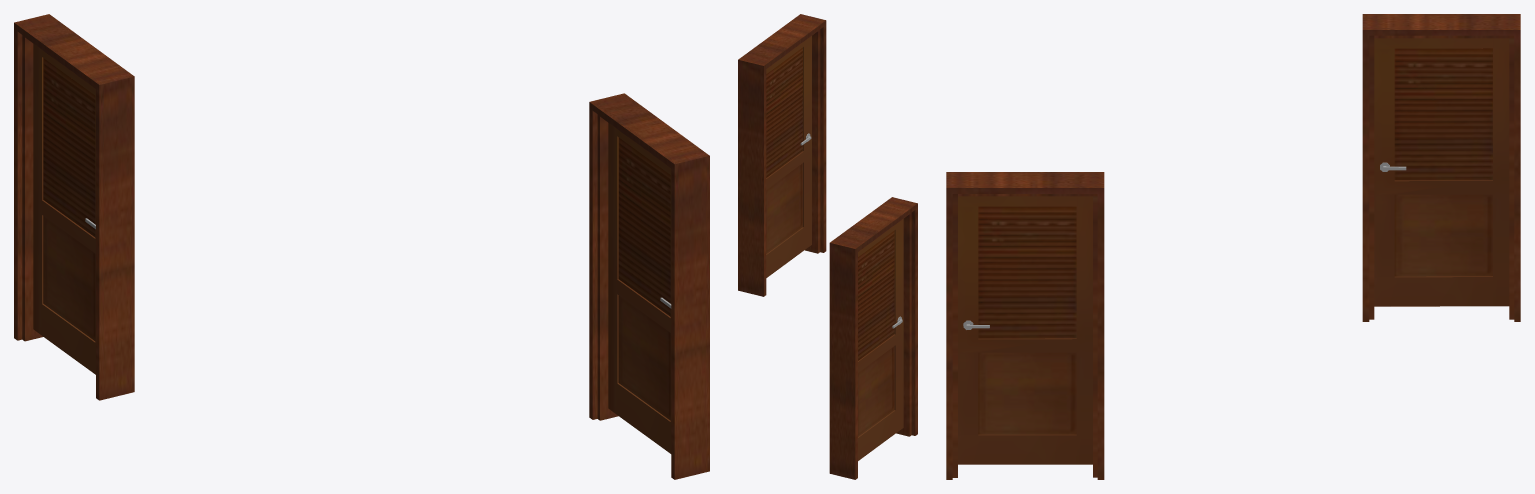
File: pintucio.fbx
3 renders of one model, left to right at view 1: azimuth 30°, elevation 25°; view 2: azimuth 150°, elevation 25°; view 3: azimuth 270°, elevation 25°, orthographic. The views are drawn at different scales.
Parts seen in each view (by area): view 1: pintu perpus.001, pintu perpus.002, Cube.002, Cube.007; view 2: pintu perpus.001, pintu perpus.002, Cube.002, Cube.007; view 3: Cube.007, Cube.002, pintu perpus.002, pintu perpus.001.
Boxes of the visible parts, x1,y1,x2,y2 form: pintu perpus.001: [589, 93, 709, 479]; pintu perpus.002: [14, 14, 134, 400]; Cube.002: [608, 123, 671, 453]; Cube.007: [33, 44, 95, 374]; pintu perpus.001: [738, 14, 826, 296]; pintu perpus.002: [829, 197, 917, 479]; Cube.002: [766, 36, 811, 277]; Cube.007: [858, 219, 903, 460]; Cube.007: [1374, 38, 1509, 306]; Cube.002: [958, 196, 1092, 464]; pintu perpus.002: [1362, 14, 1520, 321]; pintu perpus.001: [946, 172, 1104, 479].
Bounding box in the file's own units: 4542 × 3554 × 6338.
